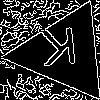K: (38, 27, 80, 76)
